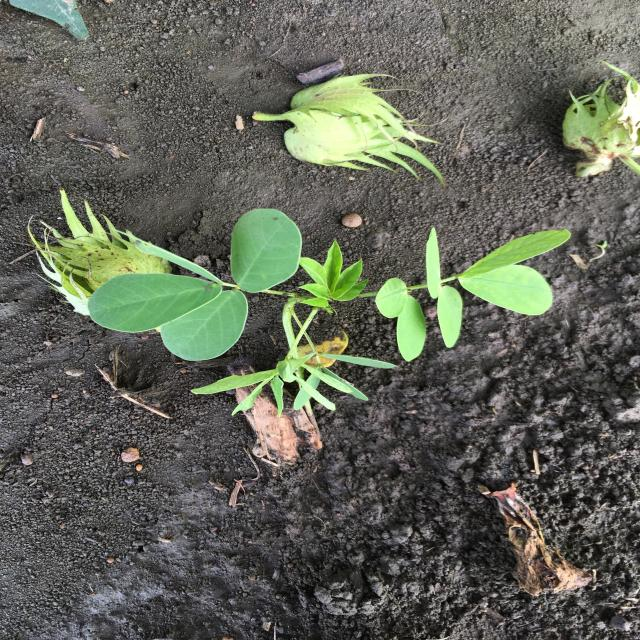Sicklepod: (87, 206, 573, 416)
